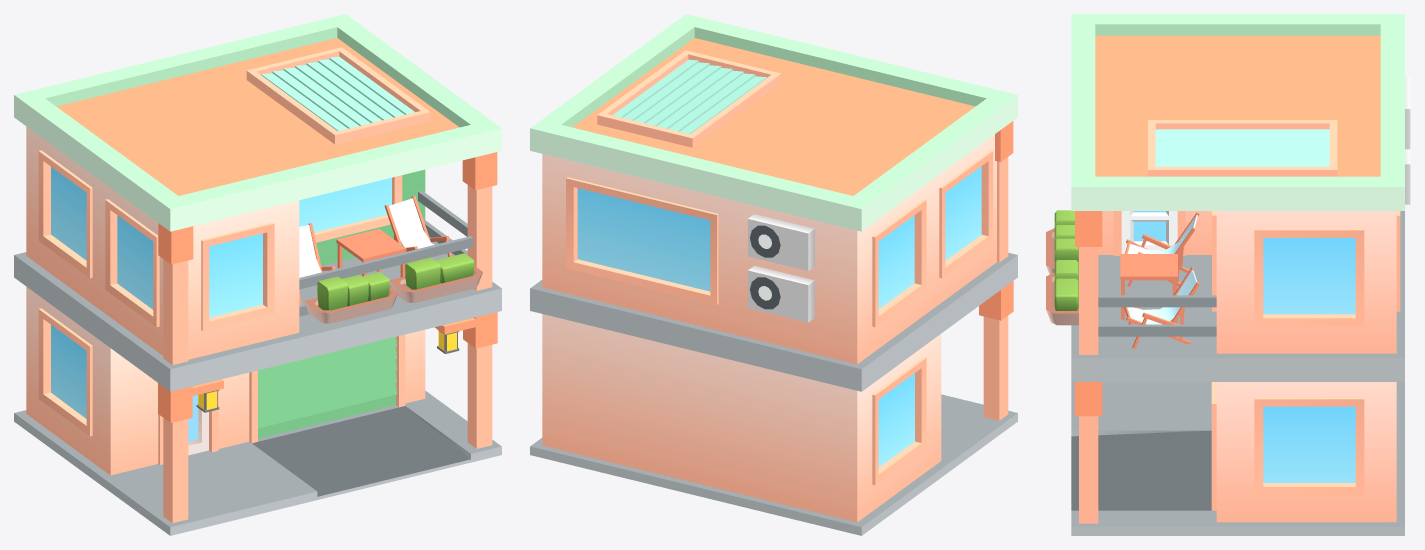
The model's file is Building_Living_11.glb.
3 views of the same model, side by side, from view 1: azimuth 30°, elevation 25°; view 2: azimuth 150°, elevation 25°; view 3: azimuth 270°, elevation 25° (orthographic). The views are drawn at different scales.
Visible parts, largest first — view 1: Building_Living_11; view 2: Building_Living_11; view 3: Building_Living_11.
Boxes of the visible parts, x1,y1,x2,y2 form: Building_Living_11: [14, 14, 501, 535]; Building_Living_11: [530, 14, 1017, 535]; Building_Living_11: [1046, 14, 1410, 535].
Size of the model in its own units: 8.03 by 7.56 by 7.16.
Materials: 1 (1 with a texture image).
